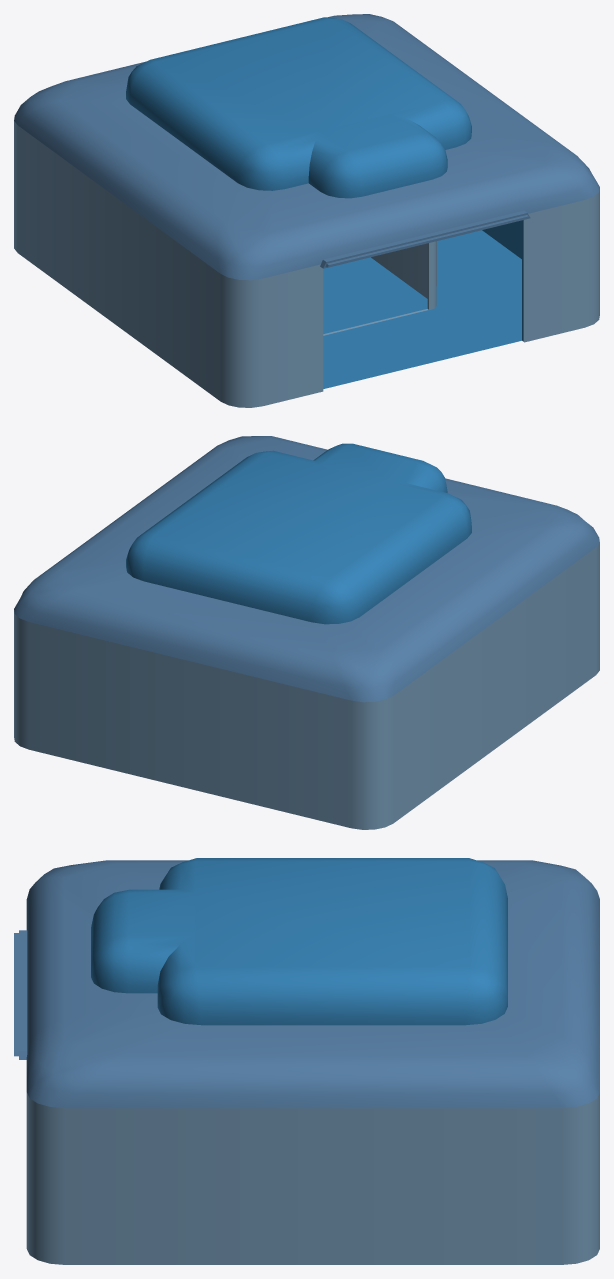
The model's file is Blue-Bolge.fbx.
The picture shows the model from 3 angles, top to bottom: view 1: azimuth 30°, elevation 25°; view 2: azimuth 150°, elevation 25°; view 3: azimuth 270°, elevation 25°; orthographic projection. The views are drawn at different scales.
Parts seen in each view (by area): view 1: Entry, Exit; view 2: Entry; view 3: Entry.
Boxes of the visible parts, box(x1,y1,x2,y2) form: Entry: box(14, 14, 599, 407); Exit: box(323, 241, 436, 335); Entry: box(14, 436, 599, 829); Entry: box(14, 858, 599, 1264).
Size of the model in its own units: 10.79 by 5.33 by 11.88.
